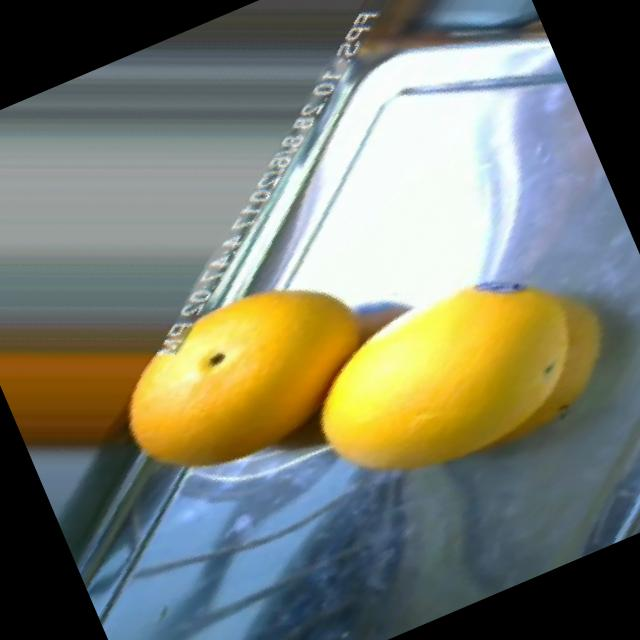Fruit: (409, 216, 640, 476)
